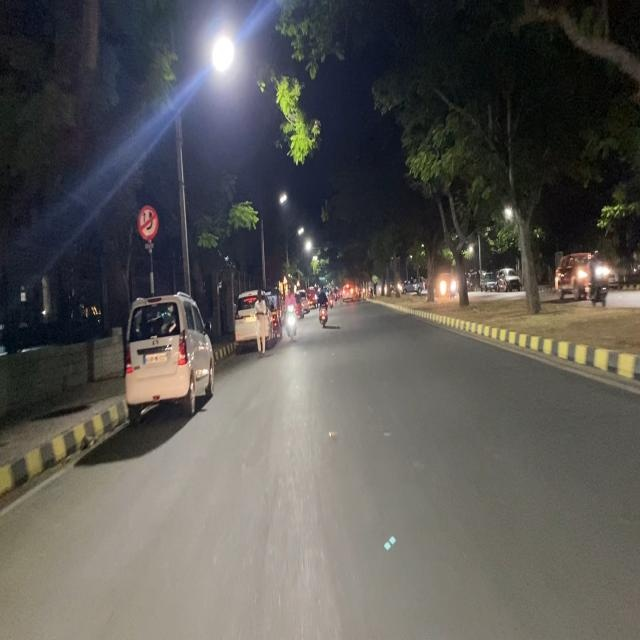bien_cam: (136, 203, 159, 241)
